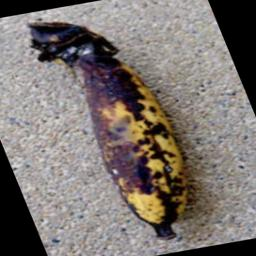Banana Rotten: (64, 33, 208, 240)
